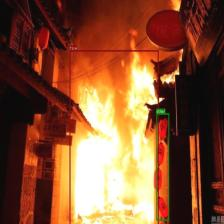fire: (69, 49, 158, 224)
